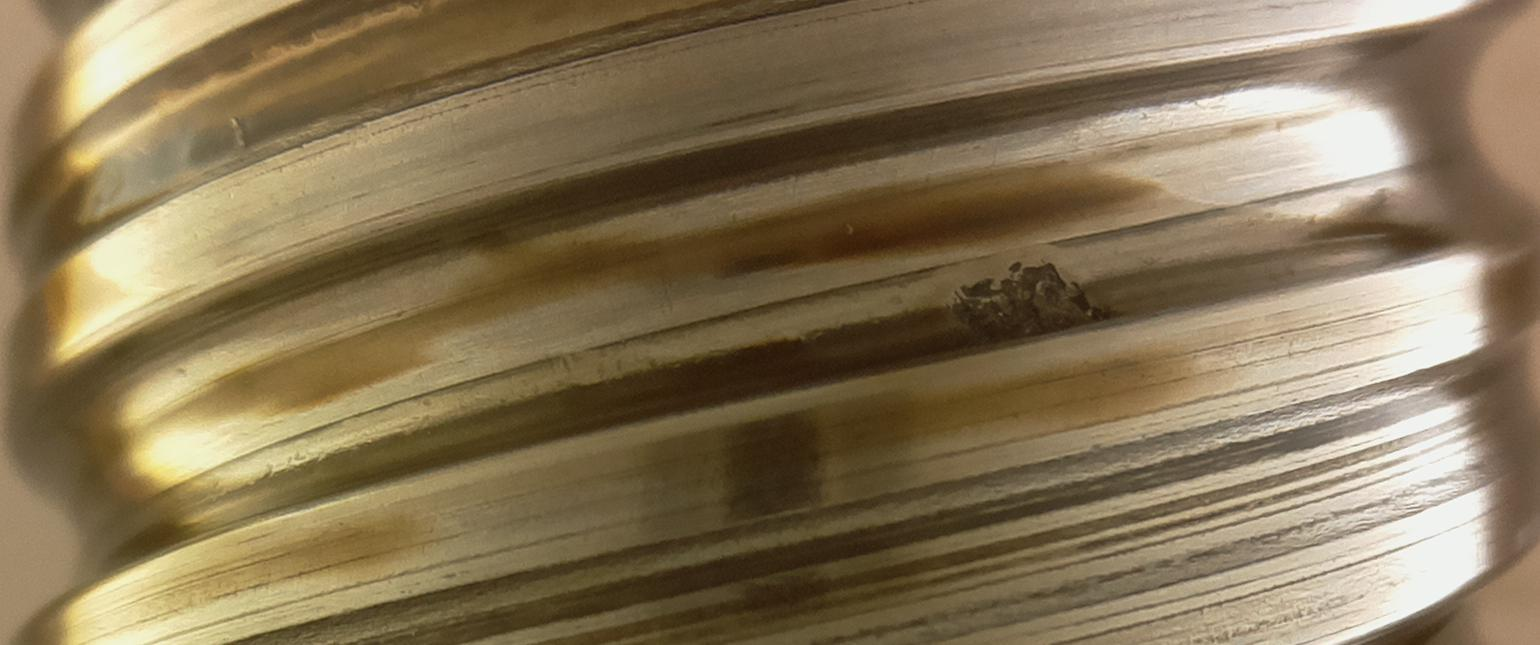pitting: (943, 261, 1123, 352)
